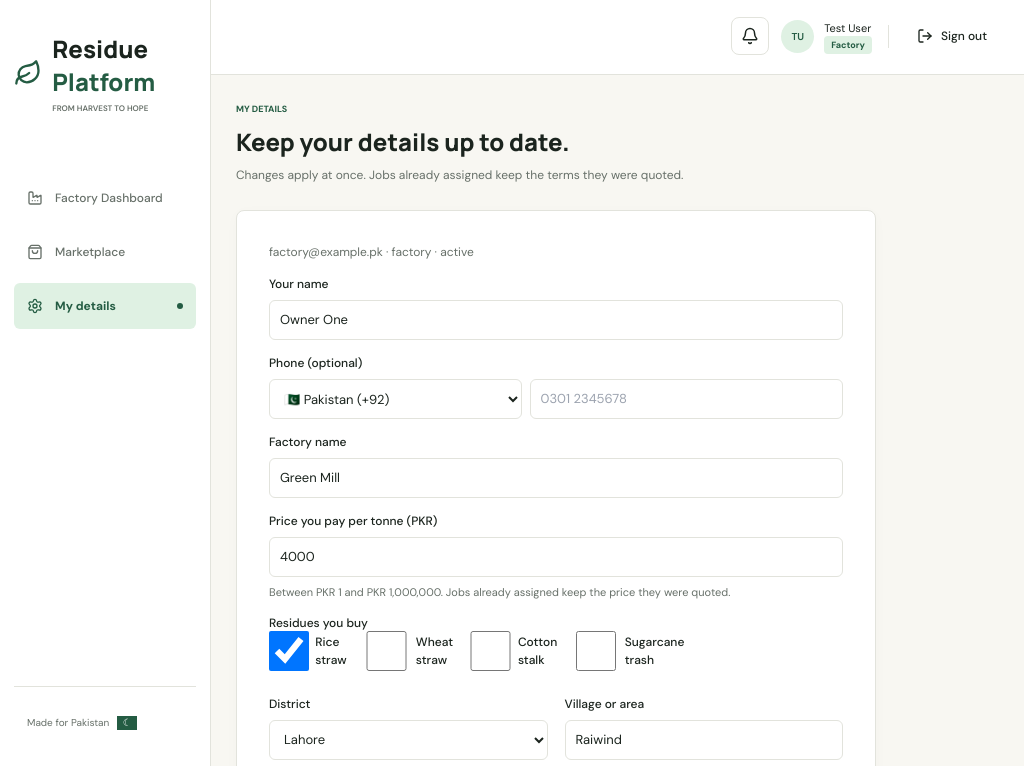
Scenario: Settings: a factory edits its own details › shows what is saved and keeps Save off until something changes
The width and height of the screenshot is (1024, 766).
Expected: the field labelled "Price you pay per tonne (PKR)" holds "4000", [269,537,843,577]
Expected: the checkbox labelled "Rice straw" is checked, [269,631,309,671]
Replace the text in the field labelled "Factory name" with "Green Mill 2" at (556, 478), box [269,458,843,498]
(page scrolled)
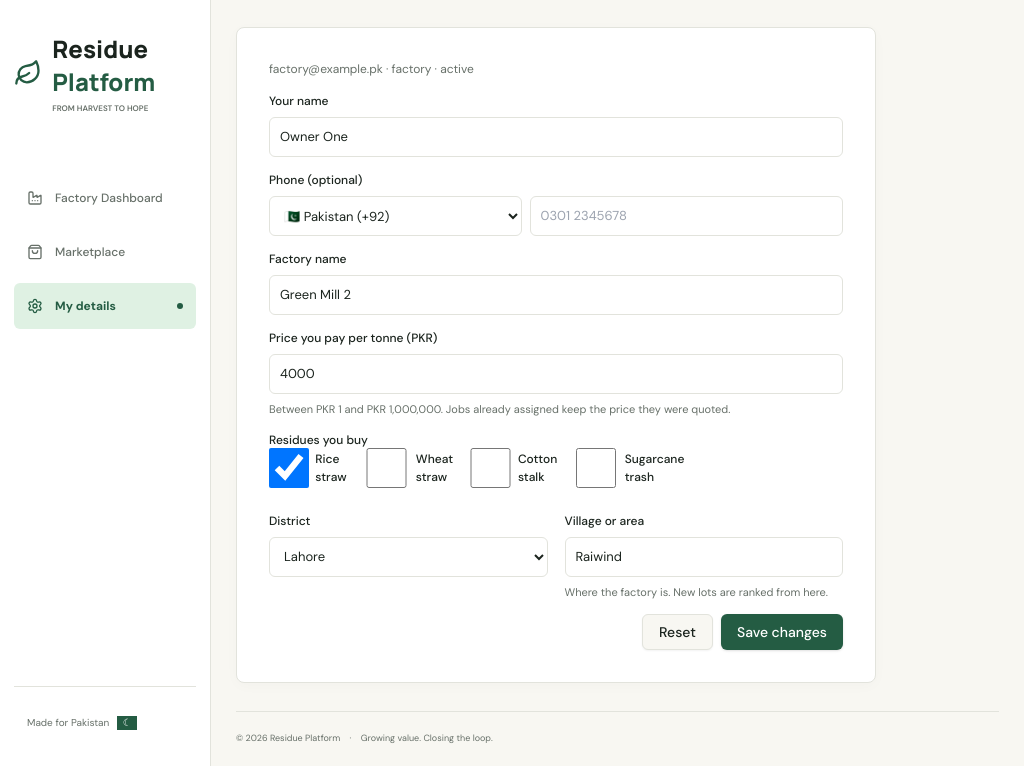
Expected: the button "Save changes" is enabled, [721,614,843,650]
